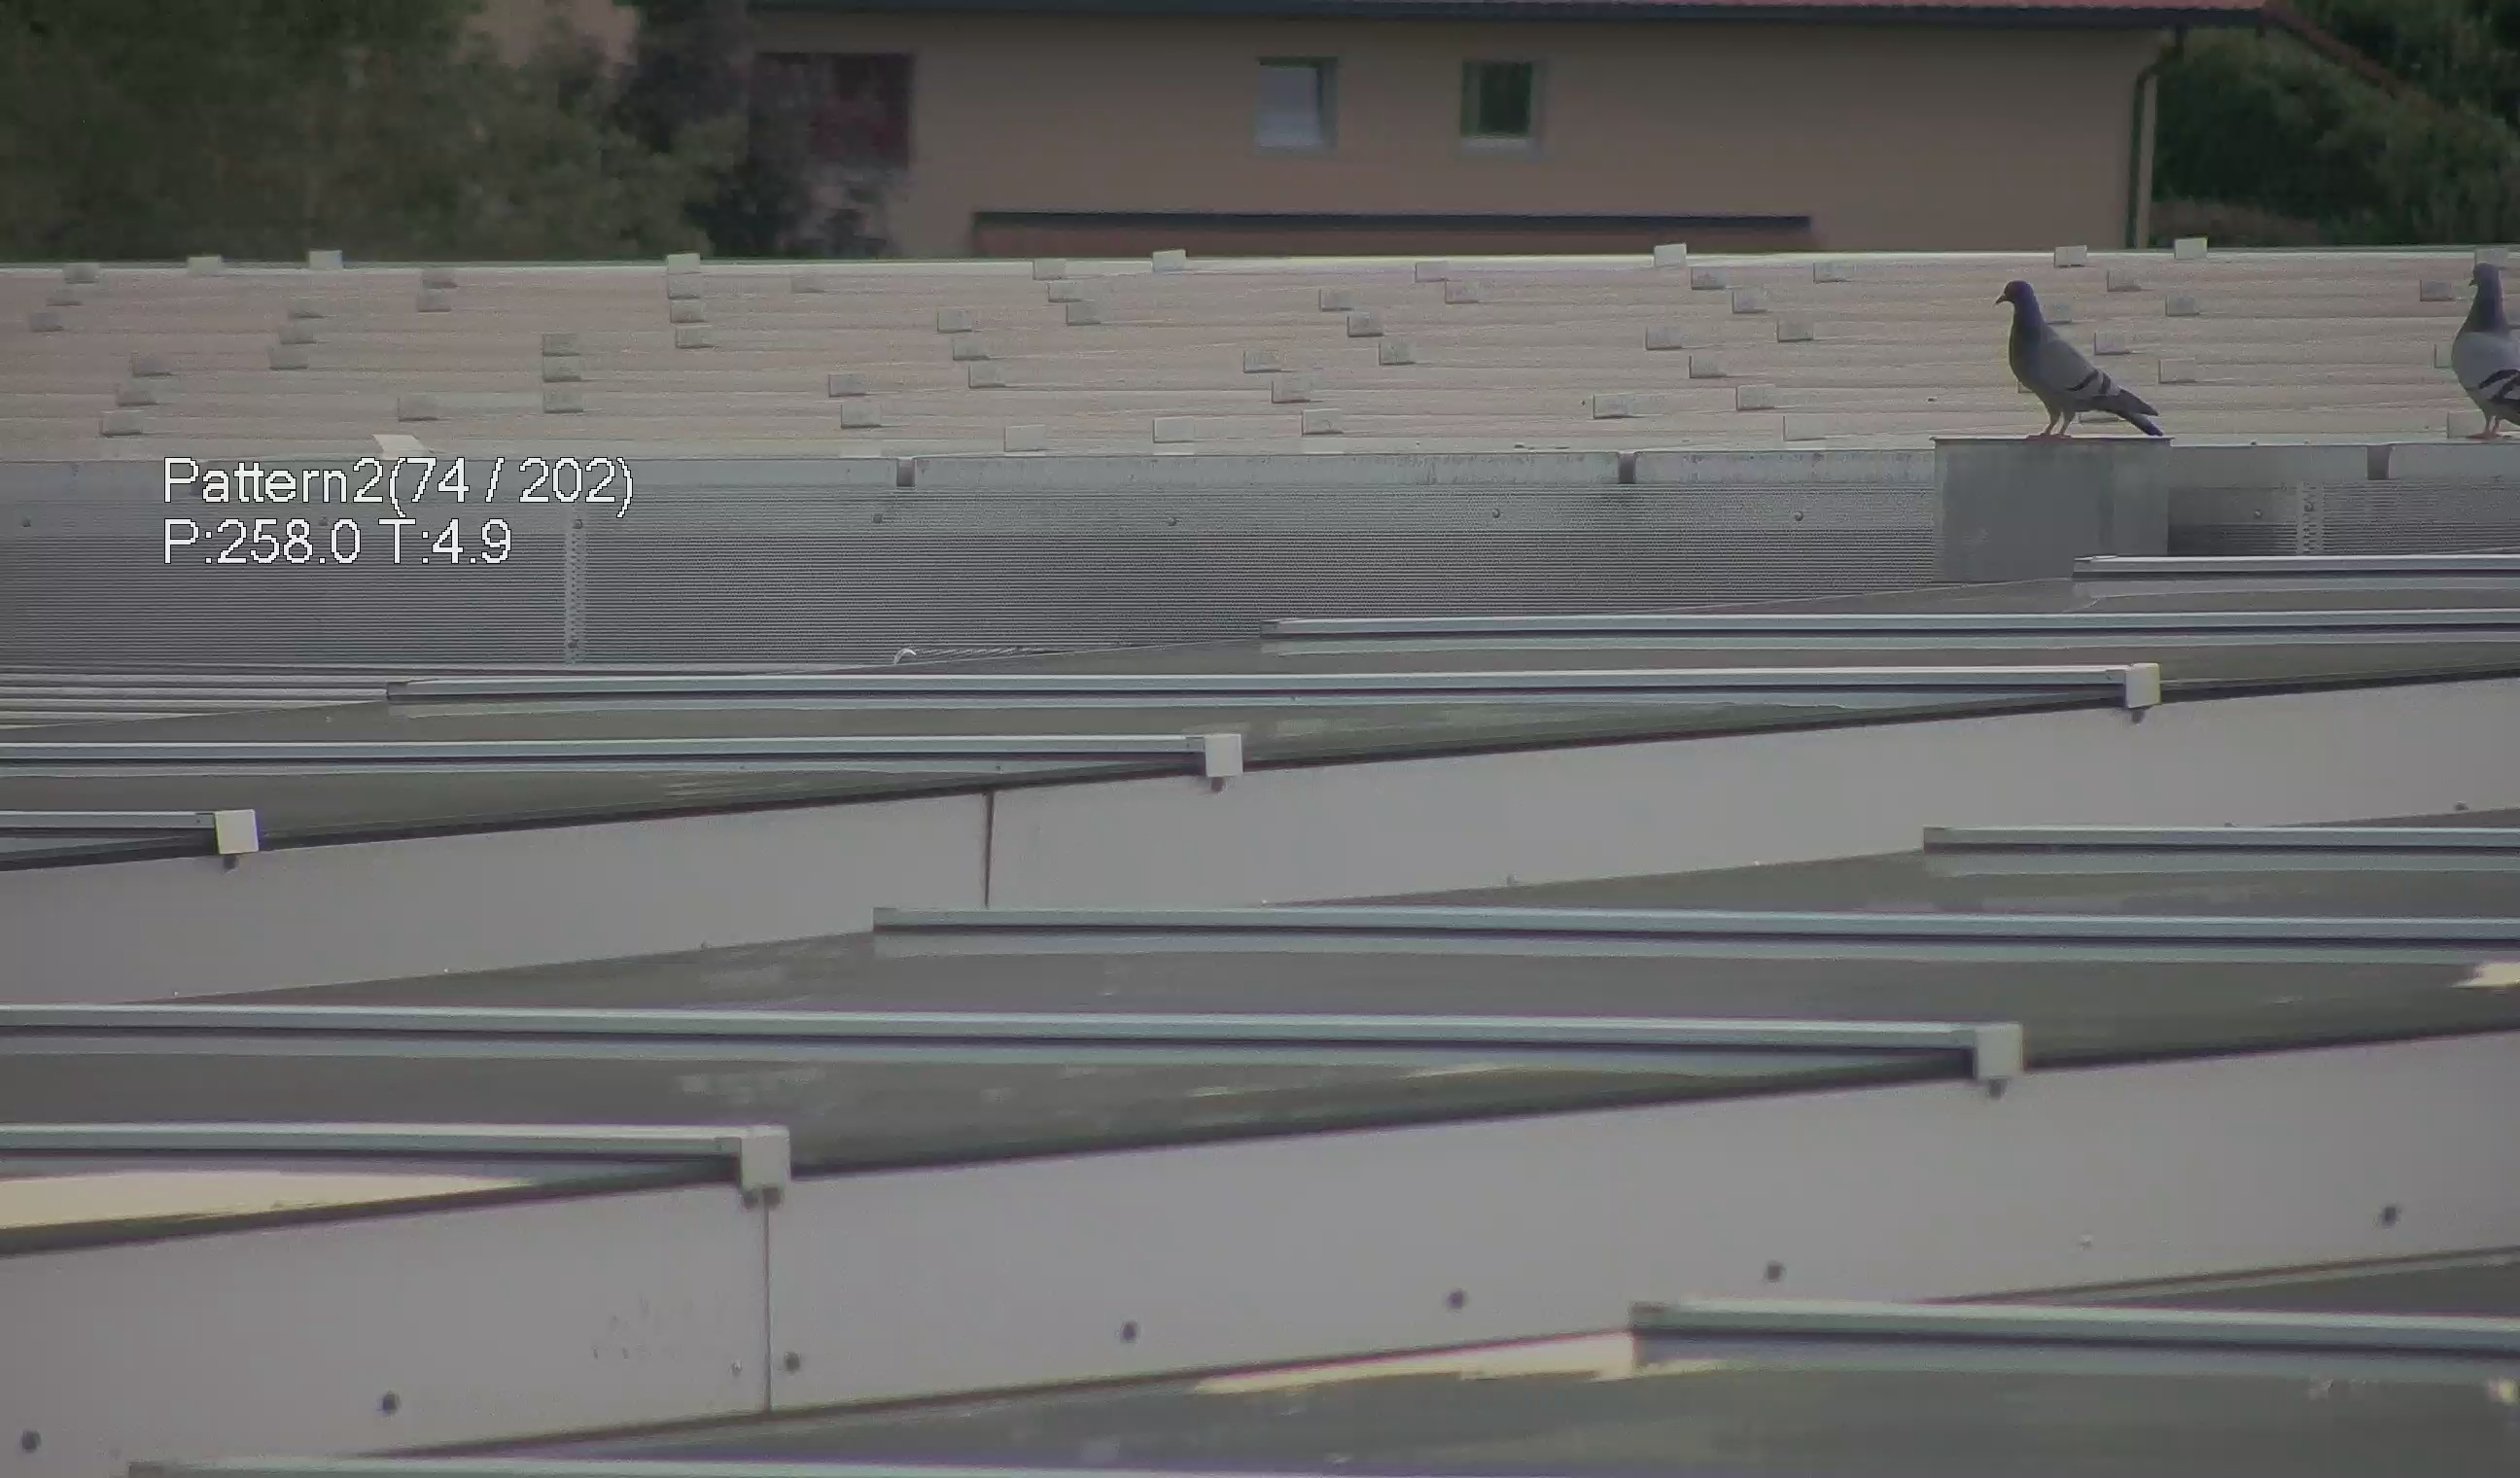Pigeon: (1989, 260, 2186, 449), (2437, 248, 2520, 433)
